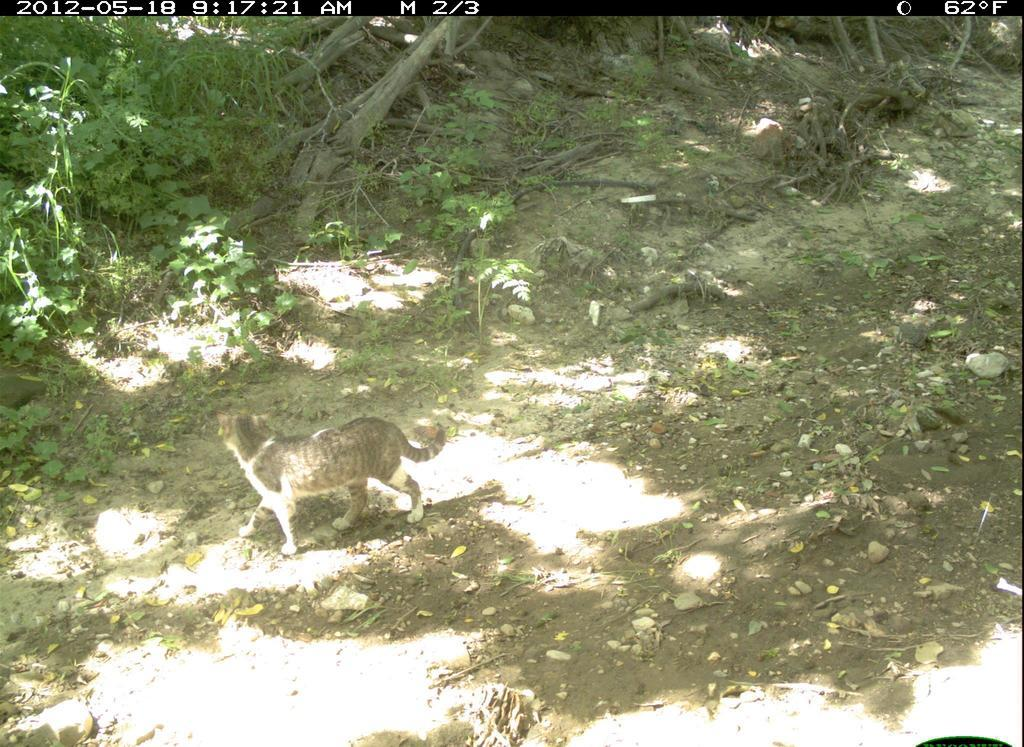cat: (214, 405, 448, 560)
